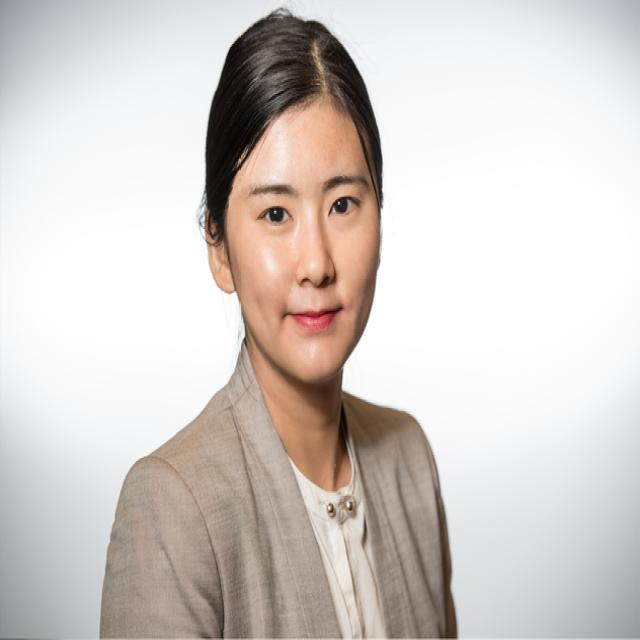Nonhelmet: (198, 10, 402, 402)
